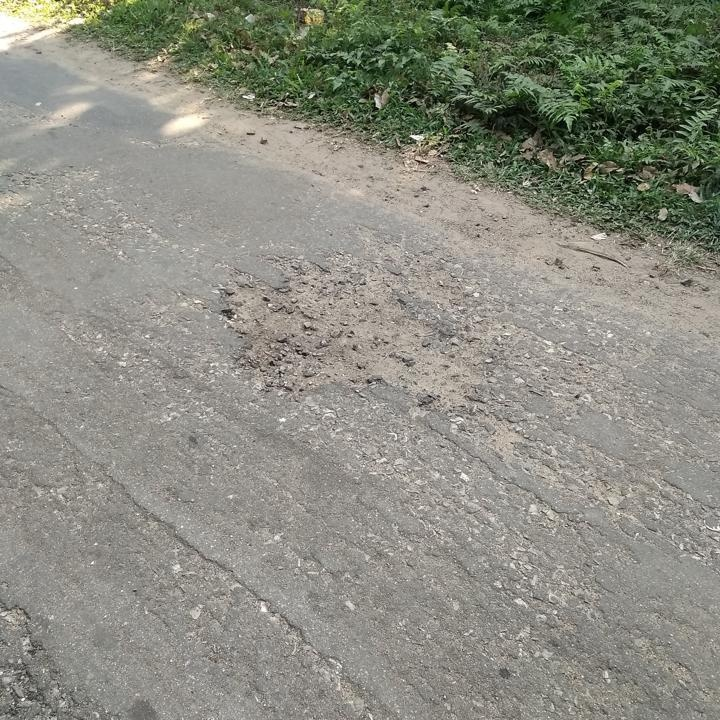pothole: (212, 250, 482, 408)
